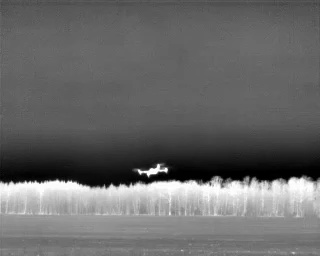DRONE: (130, 160, 174, 181)
